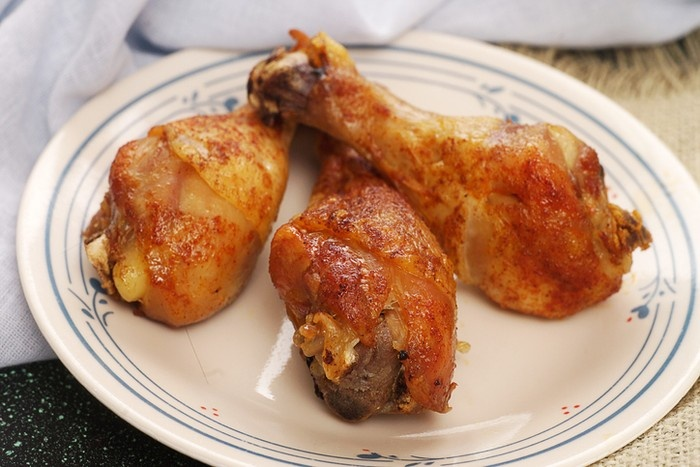ayam_goreng: (253, 24, 663, 308), (269, 90, 464, 433)
